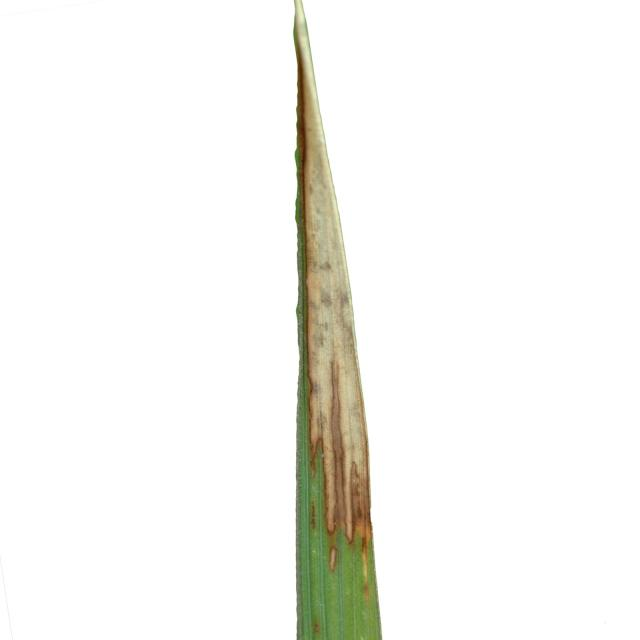Leaf scald: (200, 0, 486, 640)
